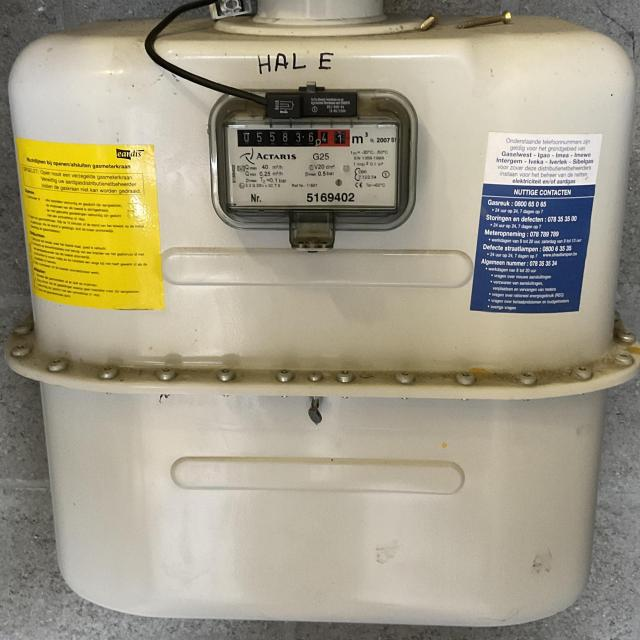gaz_meter: (224, 119, 400, 210)
indication: (235, 128, 352, 149)
